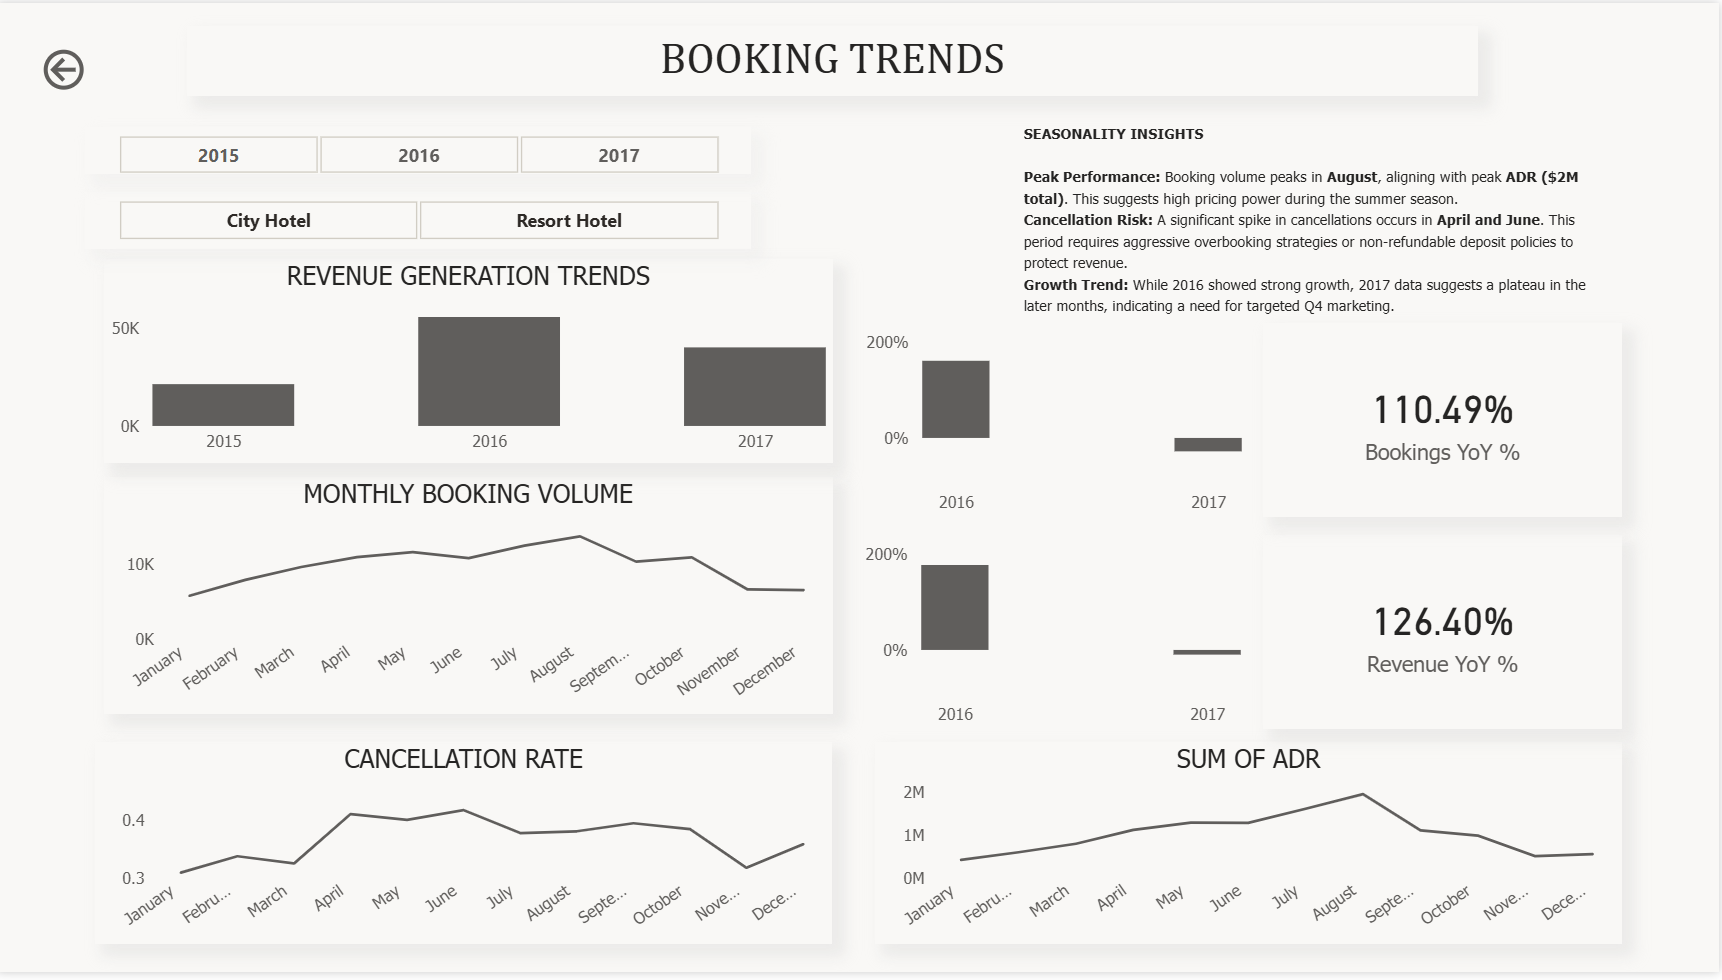

This screenshot's page, from the dashboard's own definition file:
{"tool":"powerbi","page":{"name":"Booking Trends","canvas":[1280,720],"ordinal":1},"visuals":[{"type":"slicer","fields":{"Values":["hotel_booking_clean.hotel"]},"box":[65.4,140.3,494.5,41.9],"z":0},{"type":"slicer","fields":{"Values":["hotel_booking_clean.arrival_date_year"]},"box":[65.4,91.8,494.5,35.3],"z":1000},{"type":"textbox","box":[141.1,16.9,959.6,52.2],"z":2000},{"type":"textbox","box":[758.3,83,449,155],"z":3000},{"type":"lineChart","title":"MONTHLY BOOKING VOLUME","fields":{"Category":["MonthTable.arrival_date_month"],"Y":["hotel_booking_clean.Total Bookings"]},"box":[79.4,352.7,541.5,175.6],"z":4000},{"type":"actionButton","box":[29.4,29.4,99.9,39.7],"z":5000},{"type":"lineChart","title":"SUM OF ADR","fields":{"Category":["MonthTable.arrival_date_month"],"Y":["Sum(hotel_booking_clean.adr)"]},"box":[652.4,549.6,555.5,149.9],"z":5000,"group":"g1"},{"type":"group","id":"g1","title":"Group 1","box":[72.7,549.6,1135.2,149.9],"z":6000},{"type":"lineChart","title":"CANCELLATION RATE","fields":{"Category":["MonthTable.arrival_date_month"],"Y":["hotel_booking_clean.Cancellation Rate"]},"box":[72.7,549.6,548.2,150.1],"z":6000,"group":"g1"},{"type":"card","fields":{"Values":["MonthTable.Bookings YoY %"]},"box":[941.3,238.1,266.7,144],"z":7000},{"type":"clusteredColumnChart","title":"REVENUE GENERATION TRENDS","fields":{"Category":["hotel_booking_clean.arrival_date_year"],"Y":["hotel_booking_clean.Total Bookings"]},"box":[79.4,190.3,541.5,152.1],"z":8000},{"type":"card","fields":{"Values":["MonthTable.Revenue YoY %"]},"box":[941.3,395.3,266.7,144],"z":9000},{"type":"clusteredColumnChart","fields":{"Category":["hotel_booking_clean.arrival_date_year"],"Y":["MonthTable.Bookings YoY %"]},"box":[640.7,238.1,289.5,149.2],"z":9001},{"type":"clusteredColumnChart","fields":{"Category":["hotel_booking_clean.arrival_date_year"],"Y":["MonthTable.Revenue YoY %"]},"box":[640,395.3,289.5,149.2],"z":9002}]}

Visuals, with their boxes in screenshot pixels (x1, y1, x2, y2), scaled from the page's 1280x720 canvas onto the 1722x980 screenshot:
slicer - hotel_booking_clean.hotel: (88,191,753,248)
slicer - hotel_booking_clean.arrival_date_year: (88,125,753,173)
textbox: (190,23,1481,94)
textbox: (1020,113,1624,324)
"MONTHLY BOOKING VOLUME" lineChart: (107,480,835,719)
actionButton: (40,40,174,94)
"SUM OF ADR" lineChart: (878,748,1625,952)
"Group 1" group: (98,748,1625,952)
"CANCELLATION RATE" lineChart: (98,748,835,952)
card - MonthTable.Bookings YoY %: (1266,324,1625,520)
"REVENUE GENERATION TRENDS" clusteredColumnChart: (107,259,835,466)
card - MonthTable.Revenue YoY %: (1266,538,1625,734)
clusteredColumnChart - hotel_booking_clean.arrival_date_year x MonthTable.Bookings YoY %: (862,324,1251,527)
clusteredColumnChart - hotel_booking_clean.arrival_date_year x MonthTable.Revenue YoY %: (861,538,1250,741)
